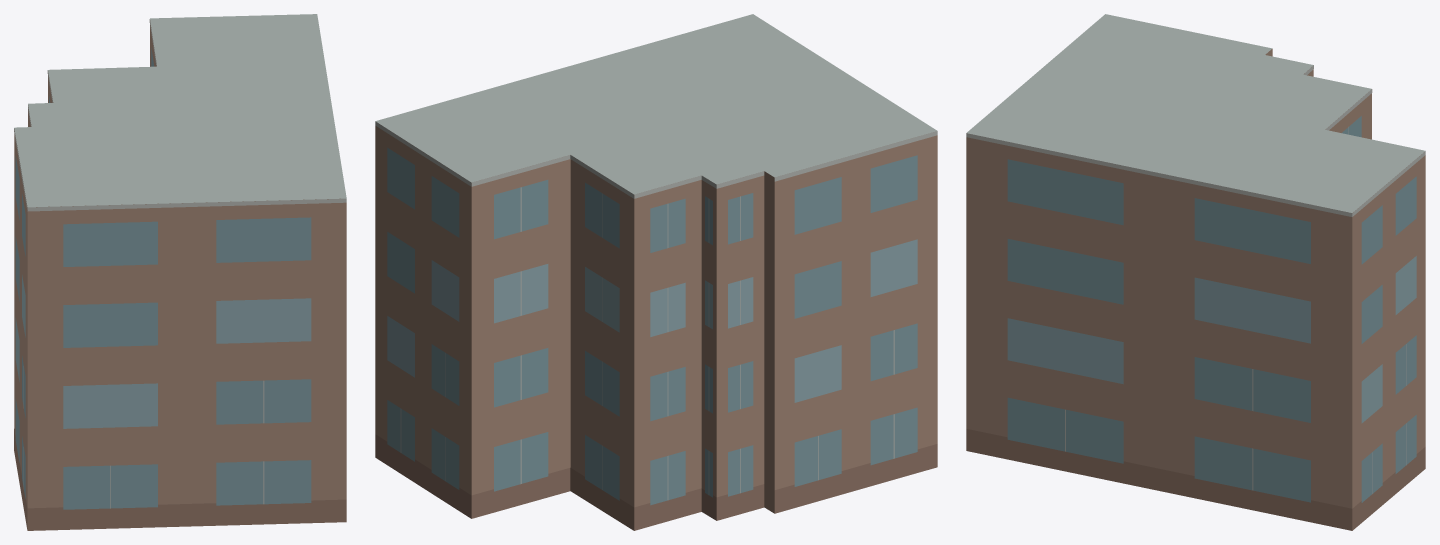
The model's file is survey-upis-32531397.glb.
3 views of the same model, side by side, from view 1: azimuth 30°, elevation 25°; view 2: azimuth 150°, elevation 25°; view 3: azimuth 270°, elevation 25° (orthographic). The views are drawn at different scales.
Visible parts, largest first — view 1: survey-upis-32531397.tmp; view 2: survey-upis-32531397.tmp; view 3: survey-upis-32531397.tmp.
Part boxes in pixels (x1,y1,x2,y2): survey-upis-32531397.tmp: [14, 14, 346, 530]; survey-upis-32531397.tmp: [375, 14, 937, 530]; survey-upis-32531397.tmp: [966, 14, 1425, 530].
Size of the model in its own units: 25.67 by 19.1 by 25.04.
